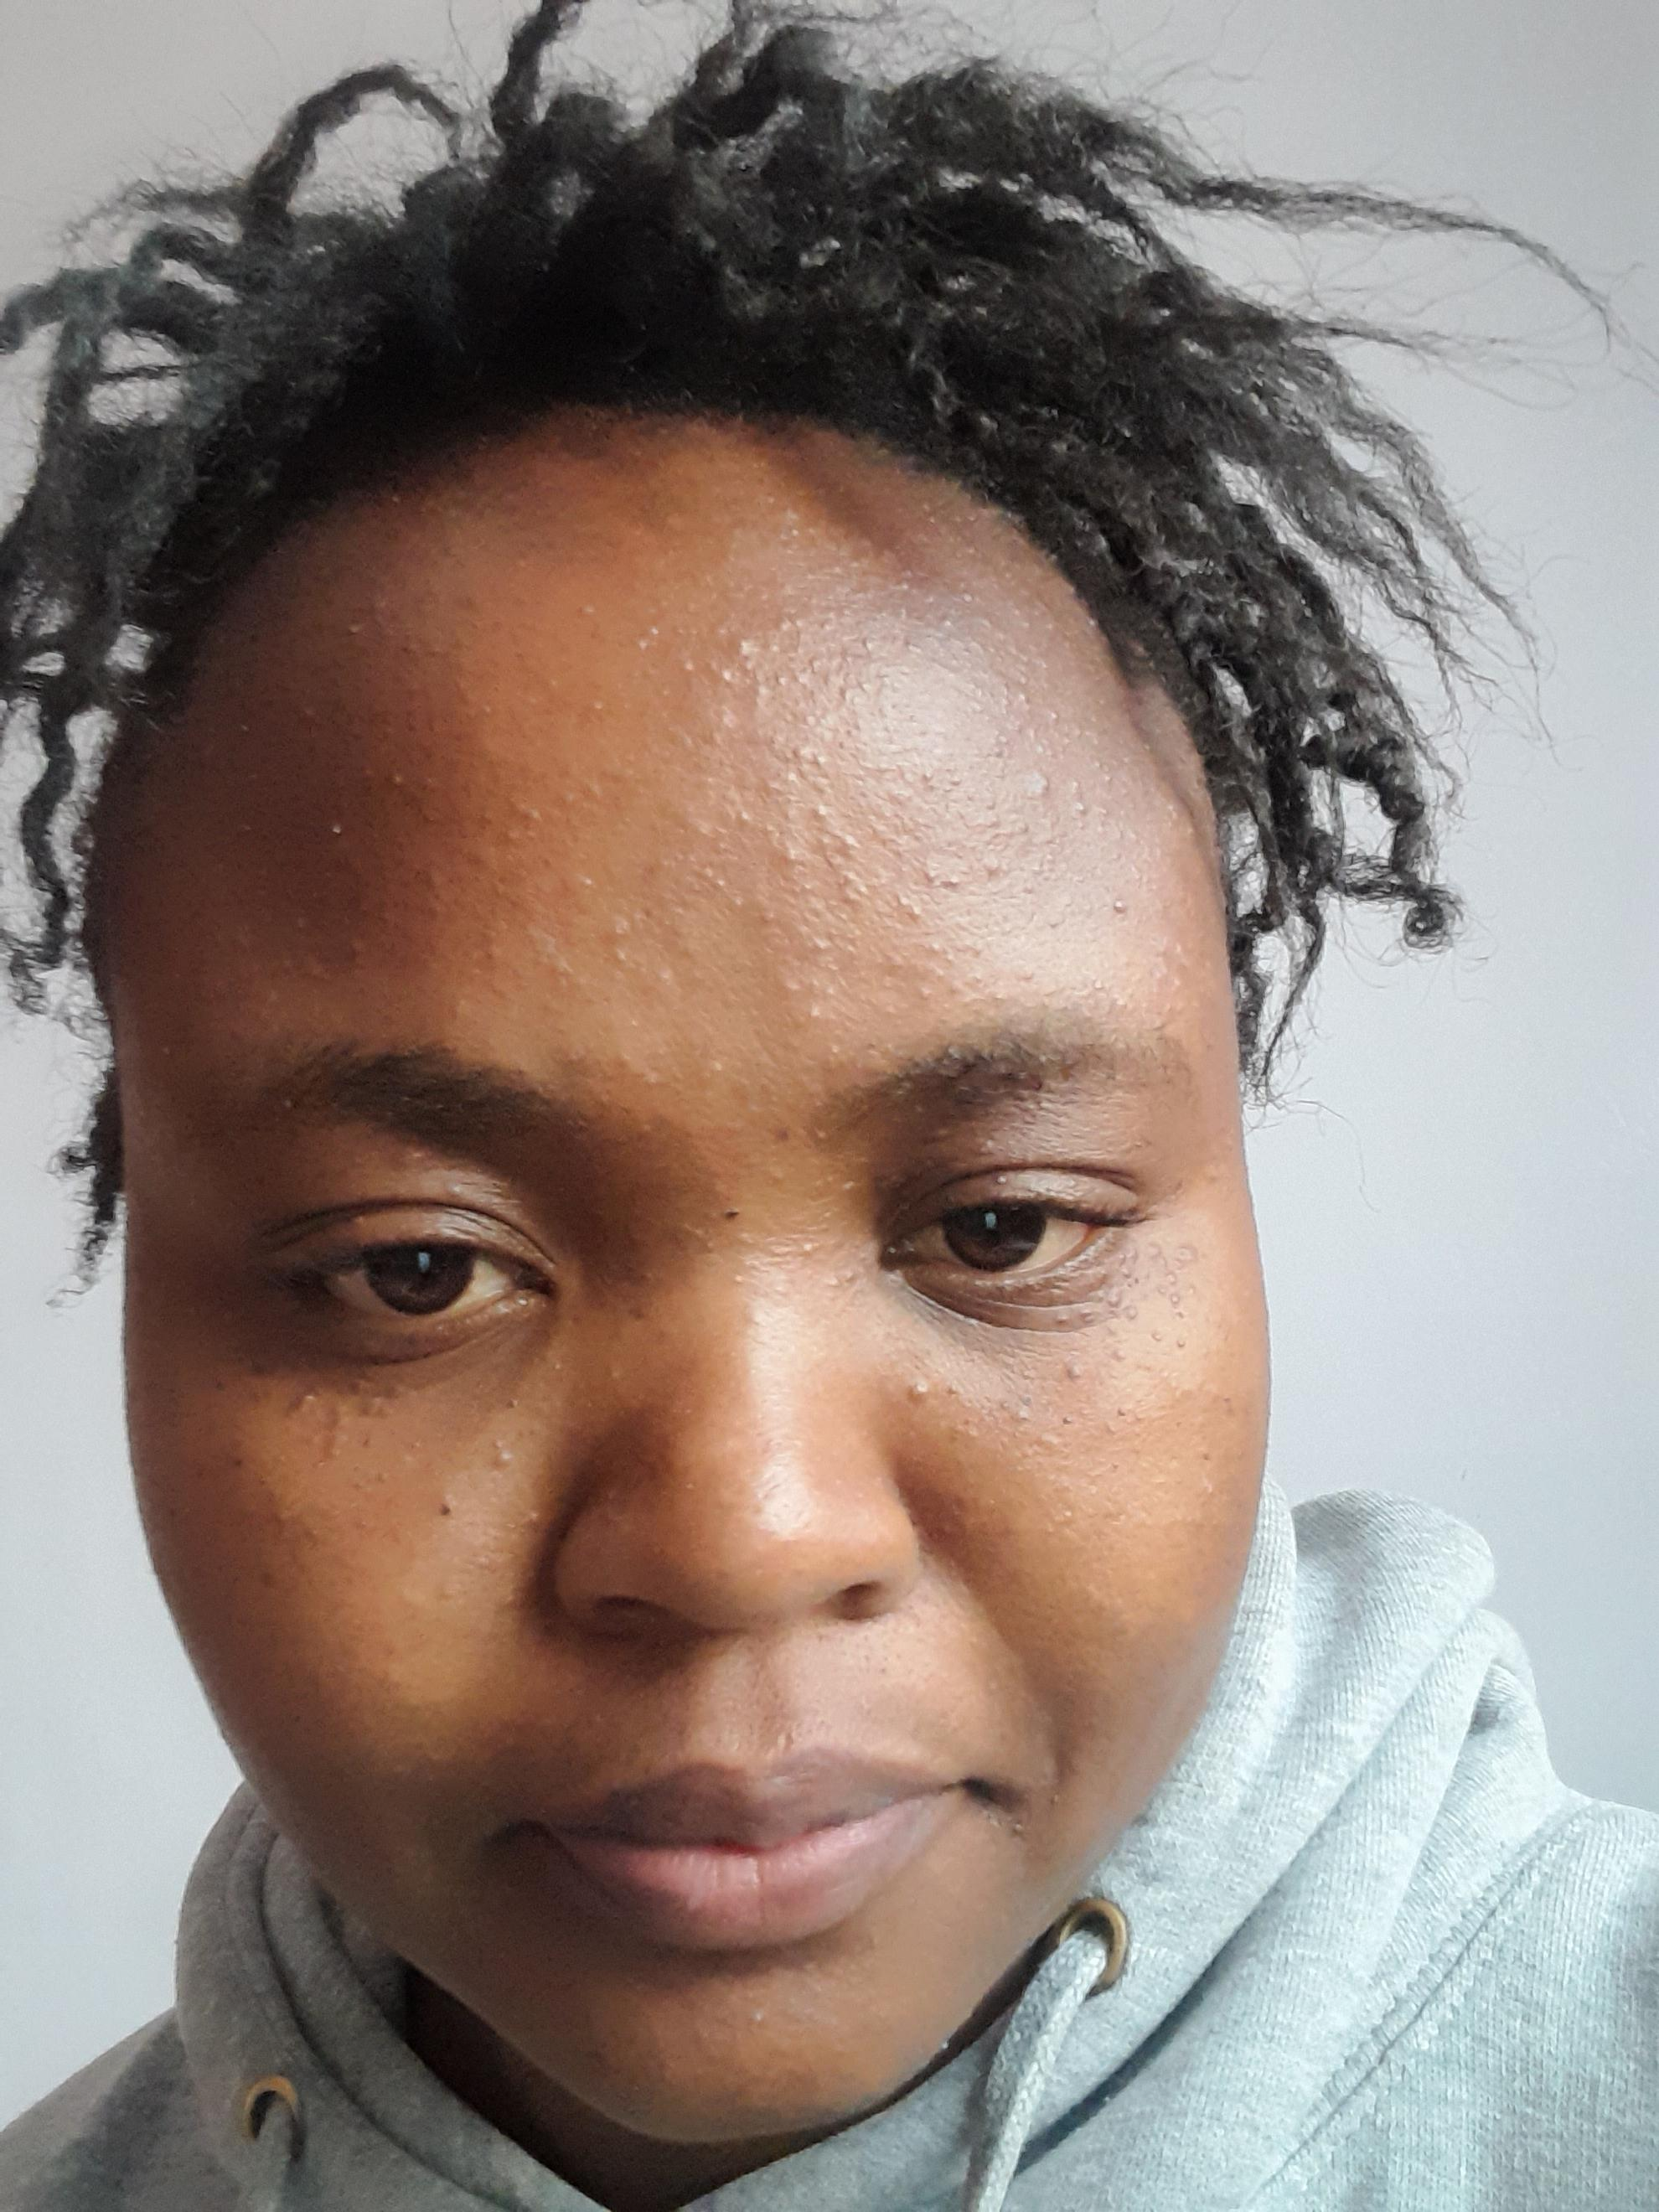Acne: (781, 801, 864, 914), (1047, 1242, 1141, 1329), (941, 611, 1046, 674), (906, 965, 1035, 1007), (765, 613, 835, 690), (884, 862, 967, 923), (483, 791, 545, 852), (779, 974, 850, 1026), (1143, 1240, 1199, 1306), (697, 852, 753, 914), (552, 763, 622, 812), (882, 761, 974, 796), (873, 808, 953, 846), (997, 681, 1065, 725), (786, 740, 836, 796), (254, 1470, 295, 1540), (1068, 773, 1117, 827), (958, 801, 1033, 836), (838, 648, 878, 709), (356, 1374, 411, 1418), (1014, 845, 1061, 895), (322, 1406, 350, 1467), (997, 1388, 1039, 1425), (894, 603, 925, 651), (281, 1385, 324, 1420), (770, 500, 805, 543), (983, 735, 1012, 784), (633, 617, 666, 660), (610, 911, 633, 972), (803, 923, 840, 956), (1143, 1325, 1188, 1352), (490, 1430, 518, 1472), (1026, 728, 1063, 759), (922, 935, 964, 961), (742, 2001, 779, 2027), (727, 631, 755, 660), (751, 671, 772, 709), (718, 805, 753, 827), (906, 1376, 934, 1404), (890, 563, 917, 592), (953, 575, 978, 606), (760, 770, 784, 801), (847, 752, 870, 786), (838, 721, 866, 747), (1061, 1360, 1087, 1386), (802, 705, 828, 732), (981, 853, 1007, 878), (713, 707, 737, 733), (918, 500, 939, 529), (1105, 1341, 1131, 1364), (960, 937, 988, 958), (1037, 801, 1058, 829), (1032, 770, 1056, 792), (385, 770, 410, 792), (763, 728, 788, 751), (884, 719, 899, 752), (1107, 897, 1131, 918), (342, 620, 368, 639), (854, 631, 878, 650), (328, 819, 349, 840), (714, 665, 735, 686), (1105, 846, 1126, 866), (1040, 914, 1065, 930), (1124, 826, 1143, 843)
Eyebags: (232, 1291, 559, 1426), (871, 1228, 1134, 1362)
